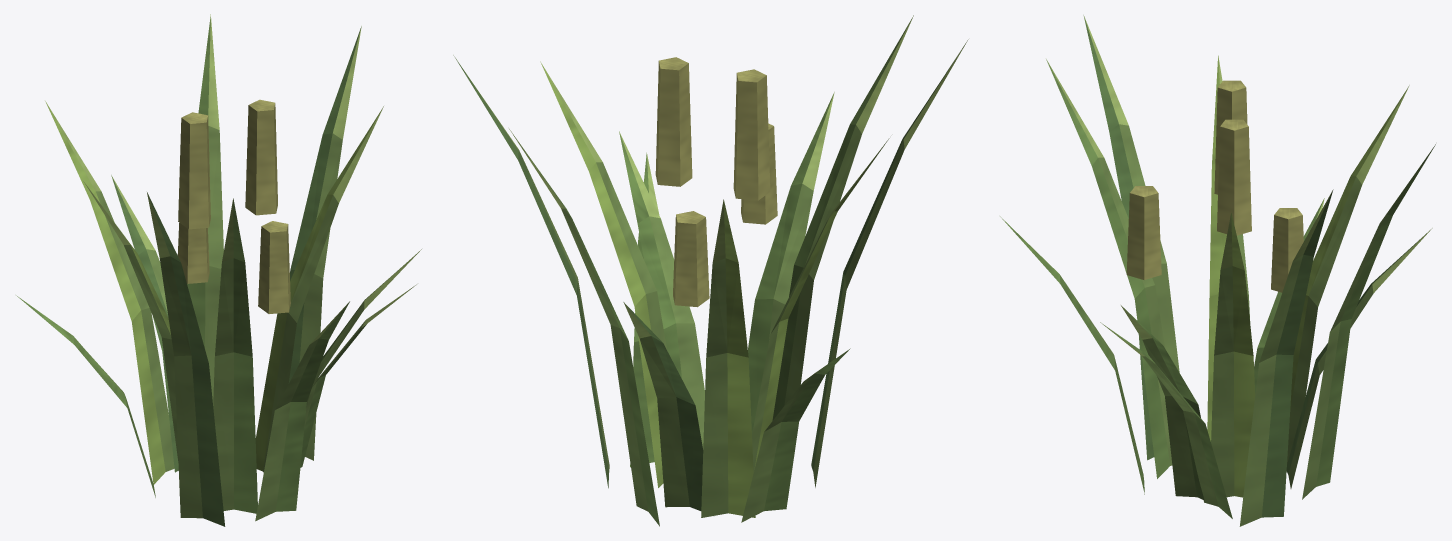
Rendered from grass_wild_seedy_01.fbx.
3 views of the same model, side by side, from view 1: azimuth 30°, elevation 25°; view 2: azimuth 150°, elevation 25°; view 3: azimuth 270°, elevation 25° (orthographic). The views are drawn at different scales.
Parts seen in each view (by area): view 1: grass_wild_seedy_01; view 2: grass_wild_seedy_01; view 3: grass_wild_seedy_01.
Part boxes in pixels (<box>): grass_wild_seedy_01: <box>16,14,421,526</box>; grass_wild_seedy_01: <box>453,15,968,526</box>; grass_wild_seedy_01: <box>1000,15,1435,526</box>.
Size of the model in its own units: 59.15 by 62 by 63.
Materials: 1 (1 with a texture image).
